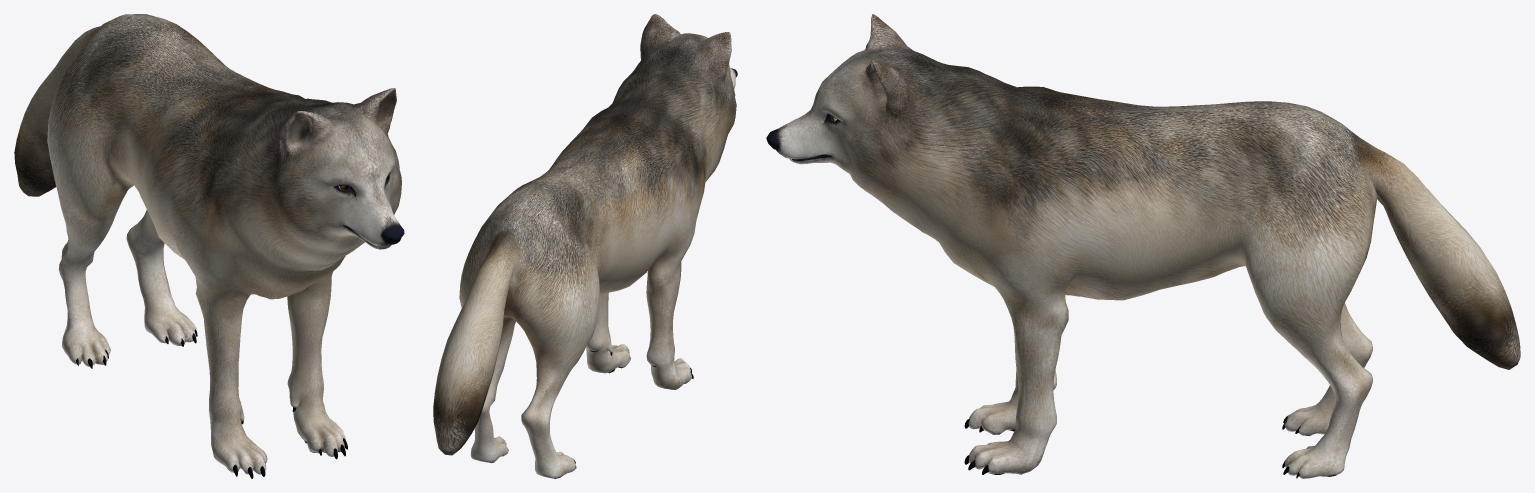
Rendered from lobo.glb.
3 views of the same model, side by side, from view 1: azimuth 30°, elevation 25°; view 2: azimuth 150°, elevation 25°; view 3: azimuth 270°, elevation 25° (orthographic). The views are drawn at different scales.
Parts seen in each view (by area): view 1: node_id99; view 2: node_id99; view 3: node_id99.
Boxes of the visible parts, <box> form: node_id99: <box>14,14,404,478</box>; node_id99: <box>433,14,737,478</box>; node_id99: <box>766,14,1520,478</box>.
Size of the model in its own units: 0.2164 by 0.512 by 0.847.
Materials: 1 (1 with a texture image).
